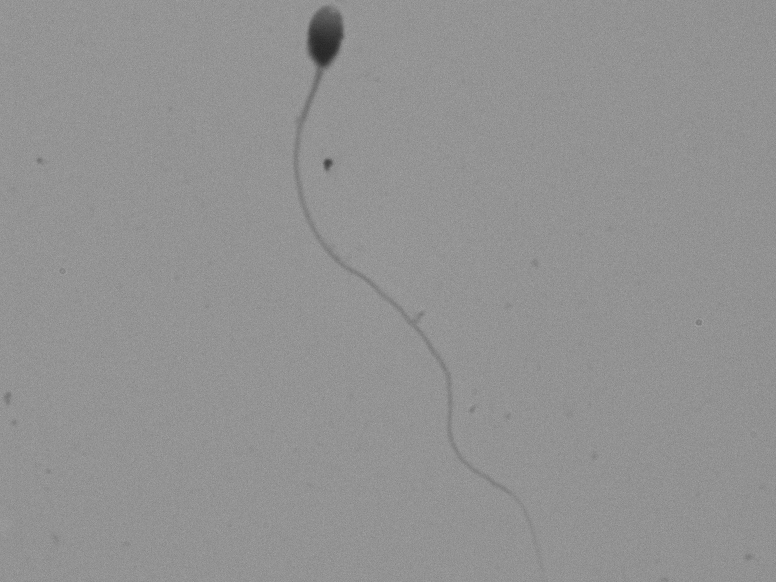Normal: (238, 3, 563, 556)
